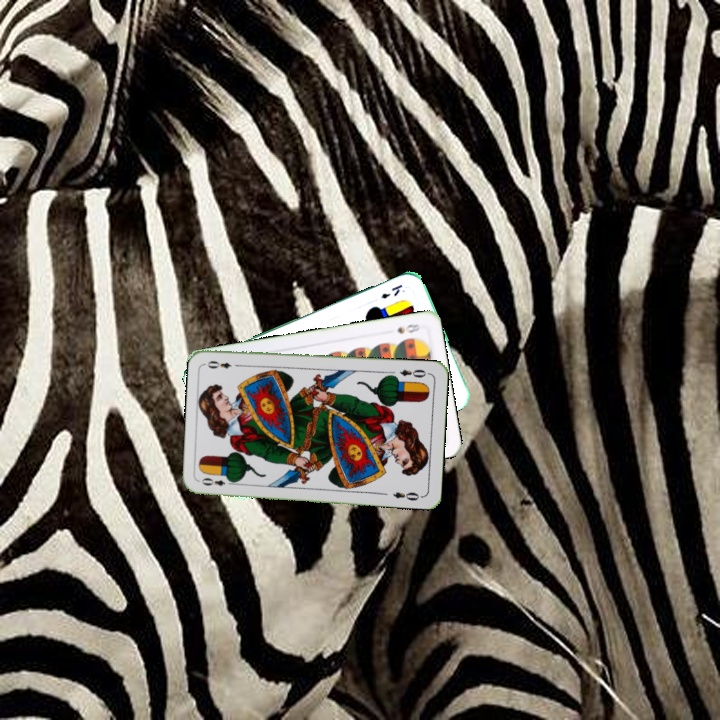EK: (376, 280, 405, 301)
EO: (198, 474, 237, 489), (396, 365, 432, 380)
S8: (393, 320, 422, 336)
